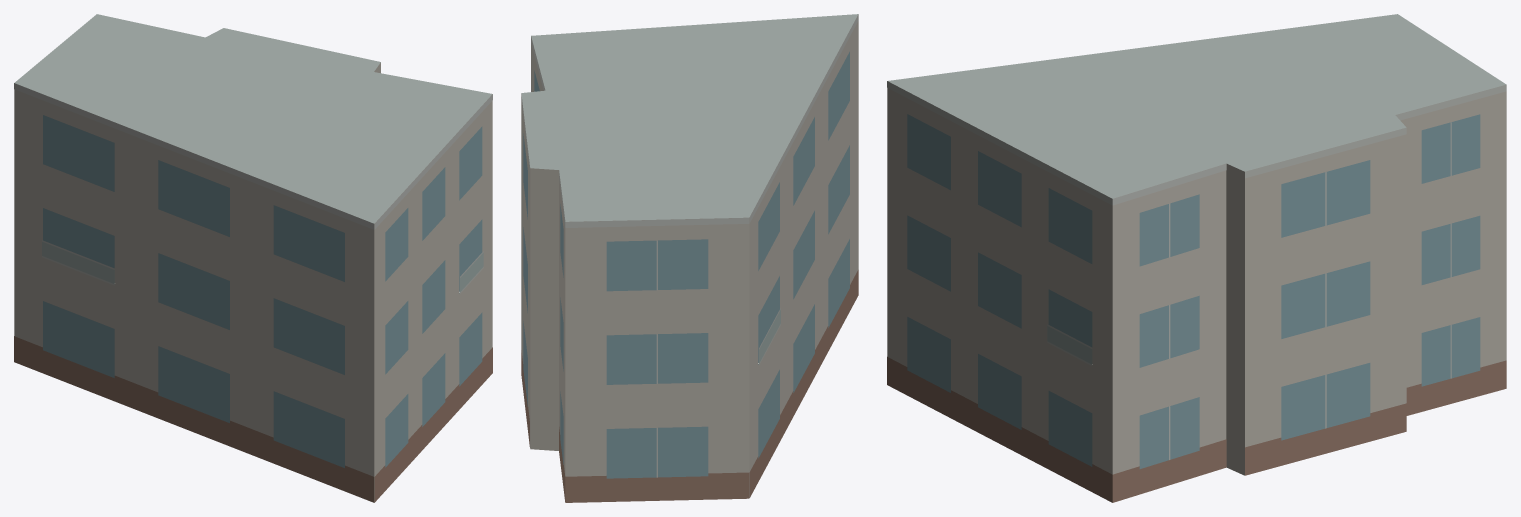
The model's file is survey-upis-32505607.glb.
3 renders of one model, left to right at view 1: azimuth 30°, elevation 25°; view 2: azimuth 150°, elevation 25°; view 3: azimuth 270°, elevation 25°, orthographic. The views are drawn at different scales.
Visible parts, largest first — view 1: survey-upis-32505607.tmp; view 2: survey-upis-32505607.tmp; view 3: survey-upis-32505607.tmp.
Boxes of the visible parts, x1=… form: survey-upis-32505607.tmp: x1=14, y1=14, x2=492, y2=502; survey-upis-32505607.tmp: x1=521, y1=14, x2=858, y2=502; survey-upis-32505607.tmp: x1=887, y1=14, x2=1506, y2=502.
Size of the model in its own units: 14.35 by 11 by 20.32.
